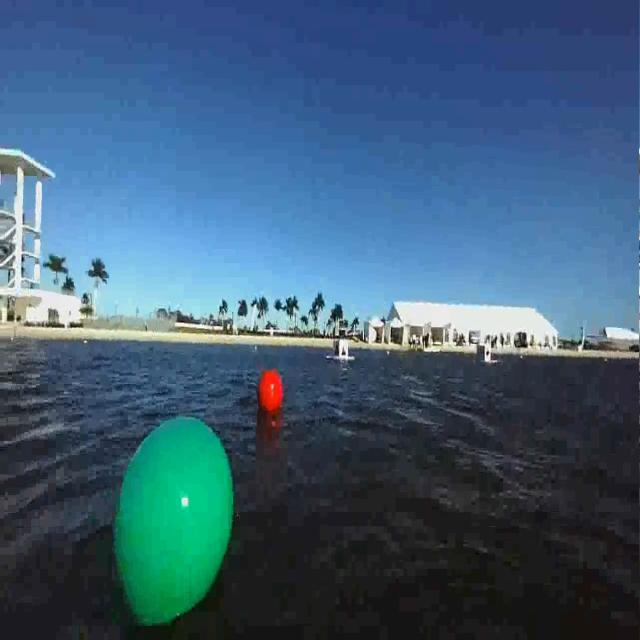green-buoy: (111, 412, 245, 633)
red-buoy: (260, 368, 286, 412)
